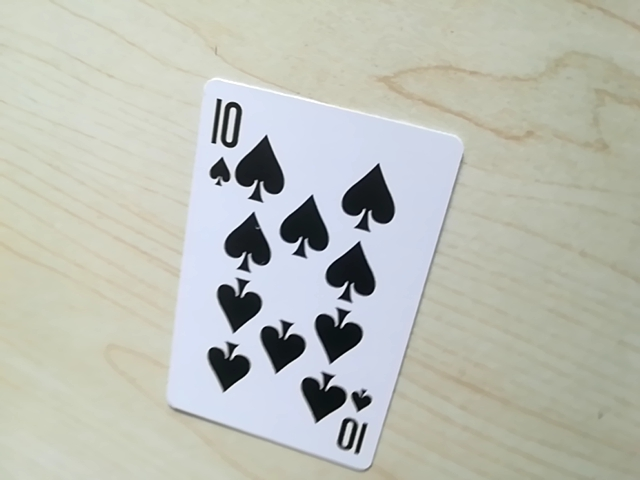ht 10: (199, 93, 251, 193), (323, 387, 377, 460)
